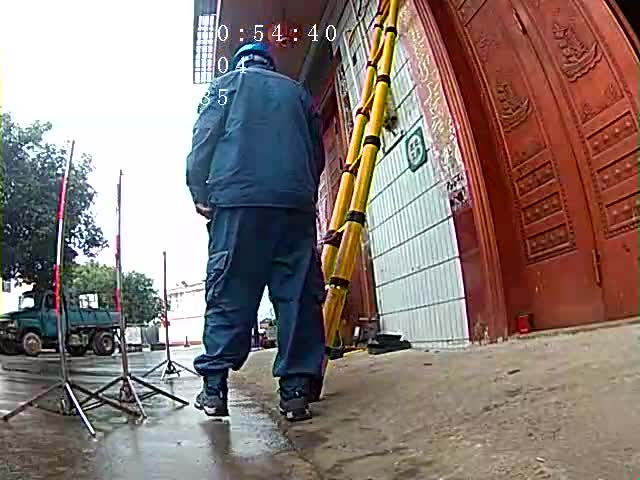halt: (235, 45, 282, 73)
